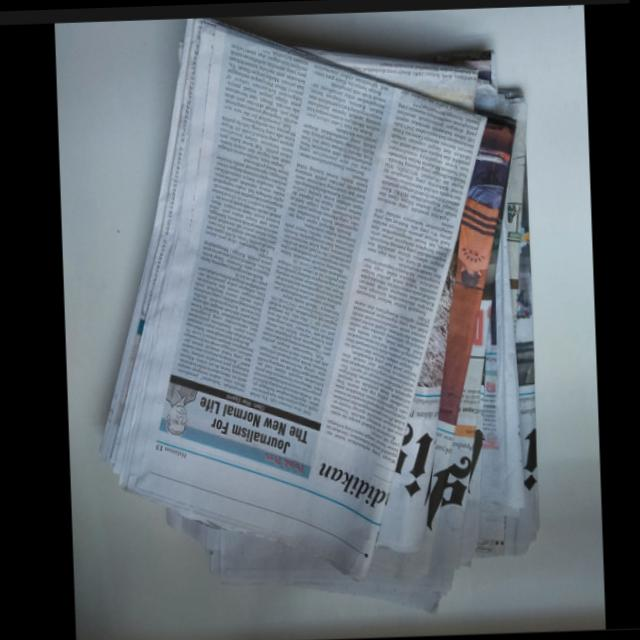Koran: (85, 8, 547, 620)
